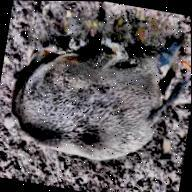boar: (0, 8, 192, 176)
